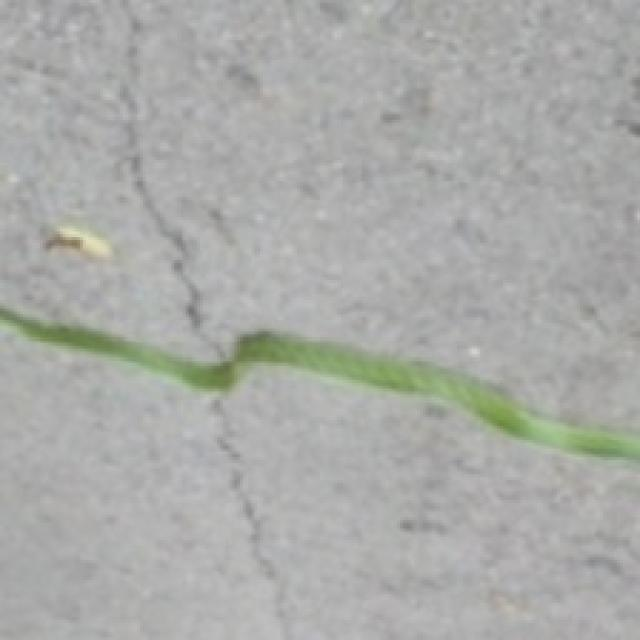red-tailed green ratsnake: (0, 307, 640, 462)
